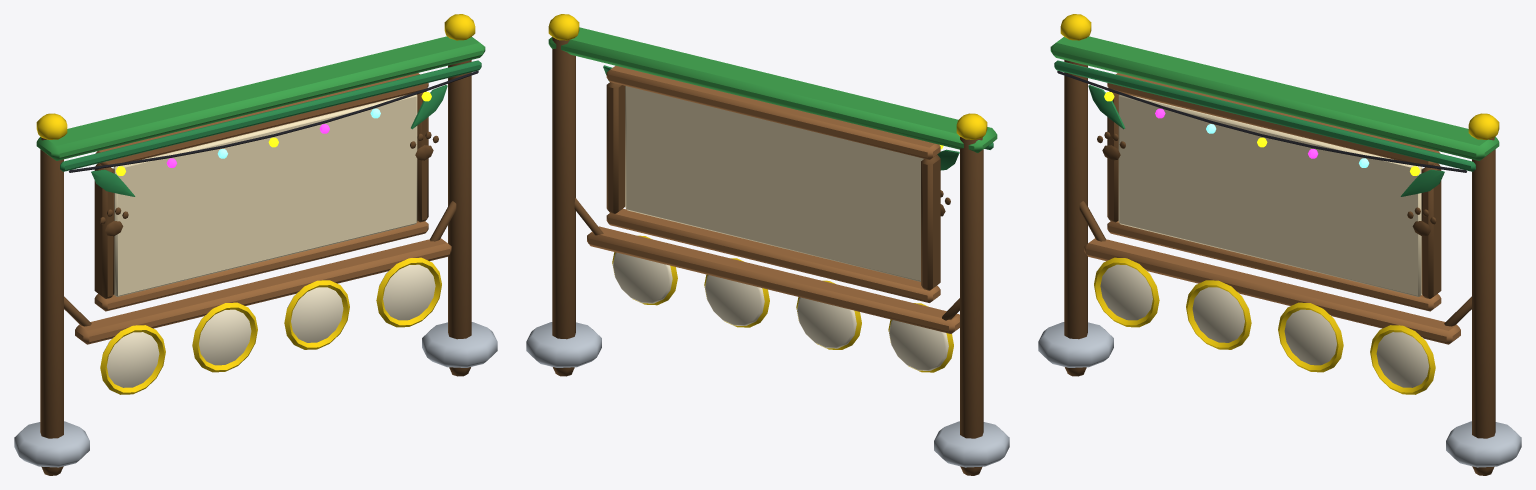
Rendered from Tutorial_BigSign.fbx.
The picture shows the model from 3 angles, left to right: view 1: azimuth 30°, elevation 25°; view 2: azimuth 150°, elevation 25°; view 3: azimuth 330°, elevation 25°; orthographic projection.
Visible parts, largest first — view 1: Static, Panel, Icon_2, Icon_0, Icon_1, Icon_3; view 2: Static, Panel, Icon_0, Icon_2, Icon_1, Icon_3; view 3: Static, Panel, Icon_1, Icon_3, Icon_0, Icon_2.
Part boxes in pixels (x1,y1,x2,y2): Static: (14,14,497,475); Panel: (113,94,417,296); Icon_2: (284,280,349,349); Icon_0: (100,325,165,394); Icon_1: (192,302,257,372); Icon_3: (376,257,441,327); Static: (526,14,1009,475); Panel: (625,86,923,281); Icon_0: (888,303,953,372); Icon_2: (704,258,769,327); Icon_1: (796,280,861,349); Icon_3: (612,235,677,305); Static: (1038,14,1521,475); Panel: (1118,94,1422,296); Icon_1: (1186,280,1251,349); Icon_3: (1370,325,1435,394); Icon_0: (1094,257,1159,327); Icon_2: (1278,302,1343,372).
Size of the model in its own units: 7.2 by 5.24 by 1.02.
